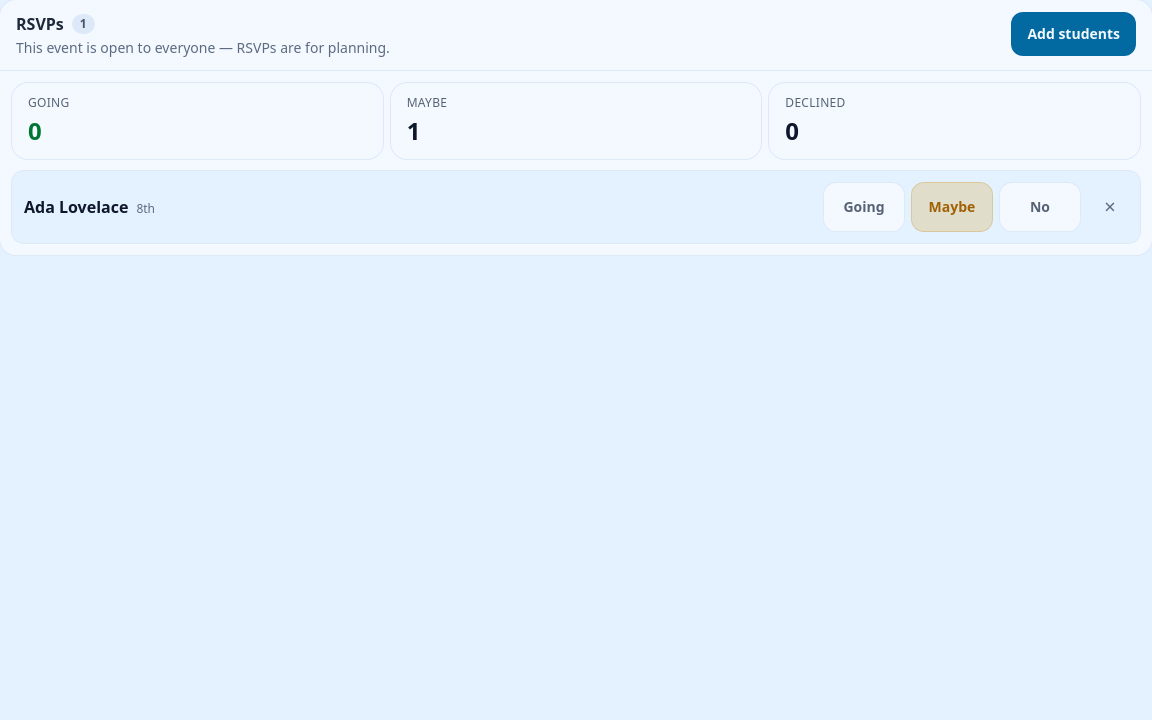
Test: the add-students sheet › renders no candidate until somebody opens it
Expected: the text "Grace Hopper" is not shown
Click the button "Add students".
click(1074, 34)  # box [1011,12,1136,56]
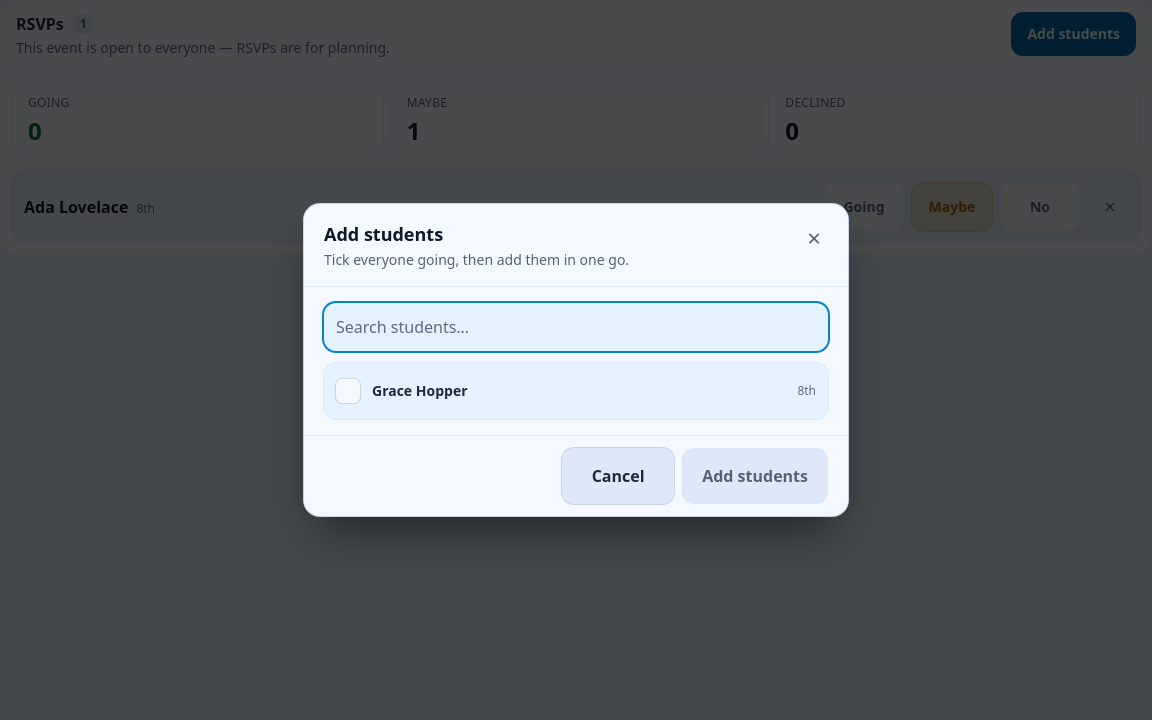
Result: the text "Grace Hopper" is shown at [372,381,468,400]
